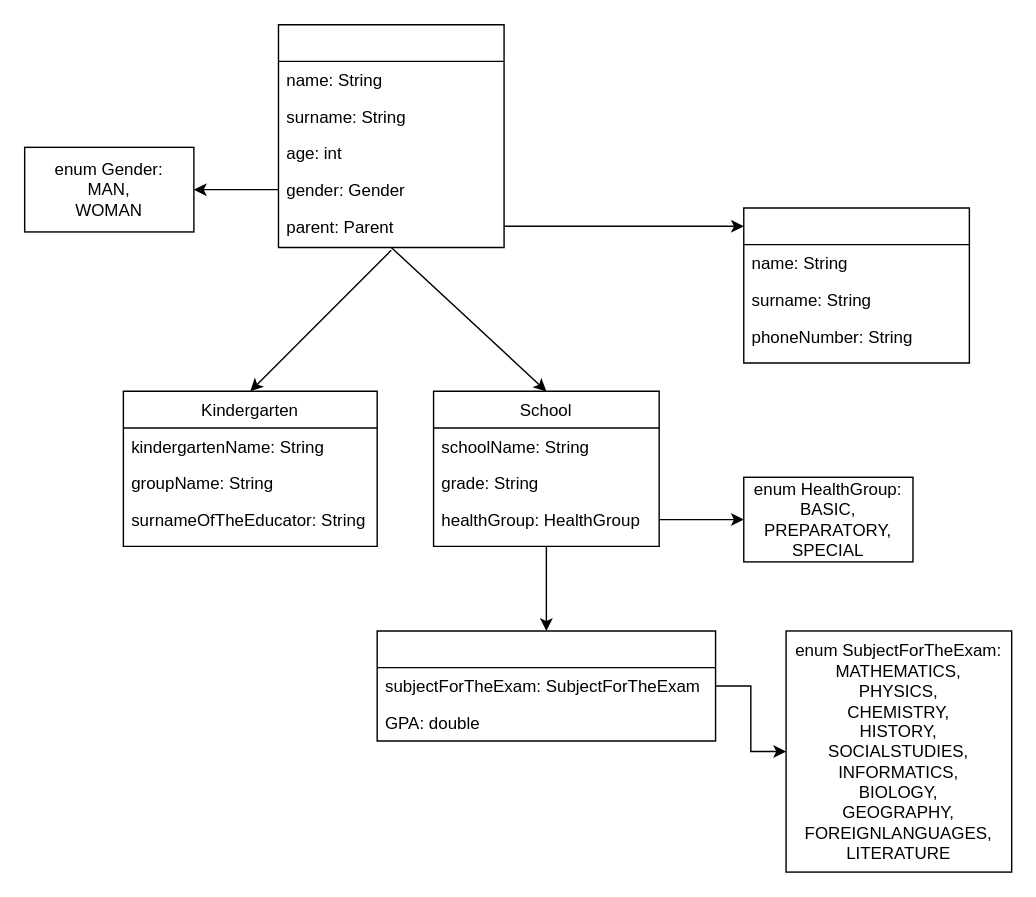
This 1036x897 diagram has some shape labels left out. The box of each missing label's shape, as (x1, y1, x2, y2) in pixels:
Children: (277, 23, 504, 247)
Graduate: (376, 630, 716, 741)
Parent: (742, 207, 969, 363)
